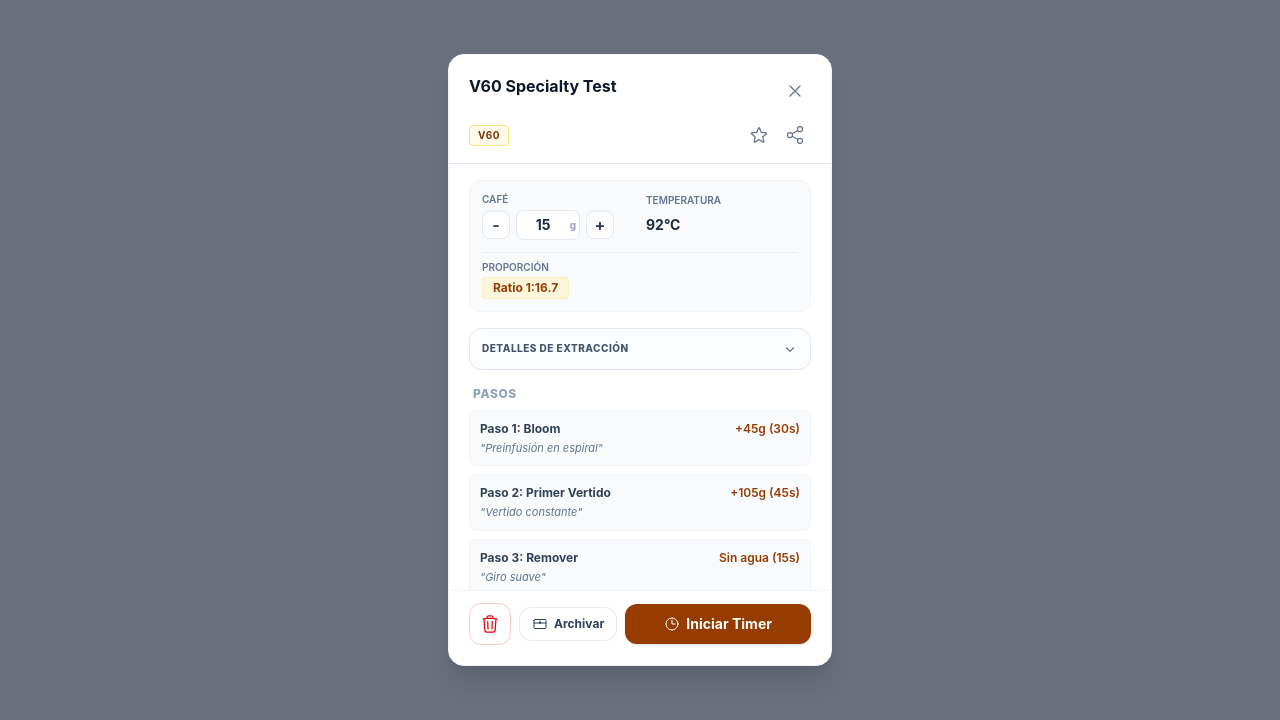
Test: Dynamic Ratio Calculator in RecipeSummaryModal › decrements dose by 1g on clicking - button
Click the button named "Disminuir dosis de café" at (496, 225), box [482,211,510,239]
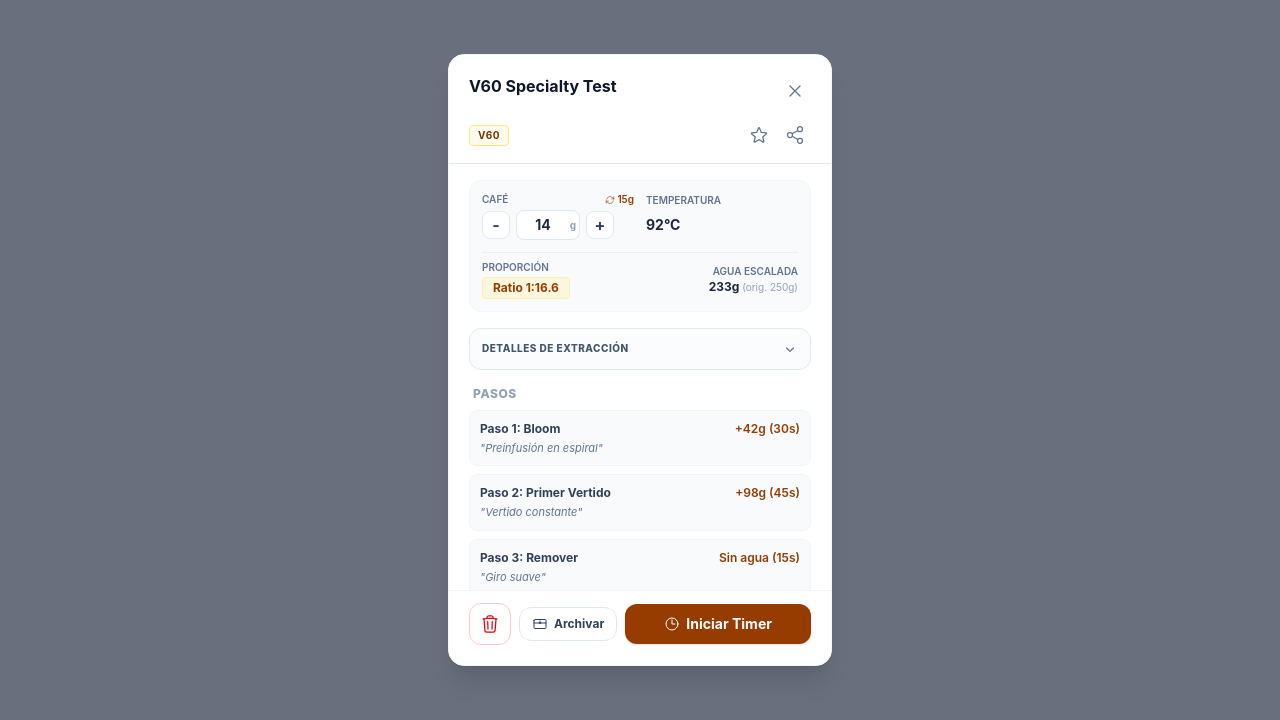
Now the number field named "Dosis de café en gramos" holds "14", box [516,210,580,240]
Now the button named "Restablecer dosis original" is shown, box [605,193,634,206]
